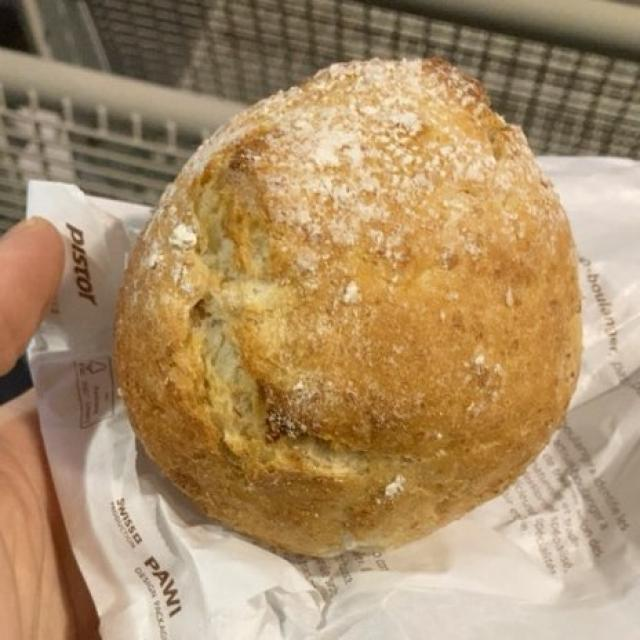bread: (111, 66, 579, 533)
